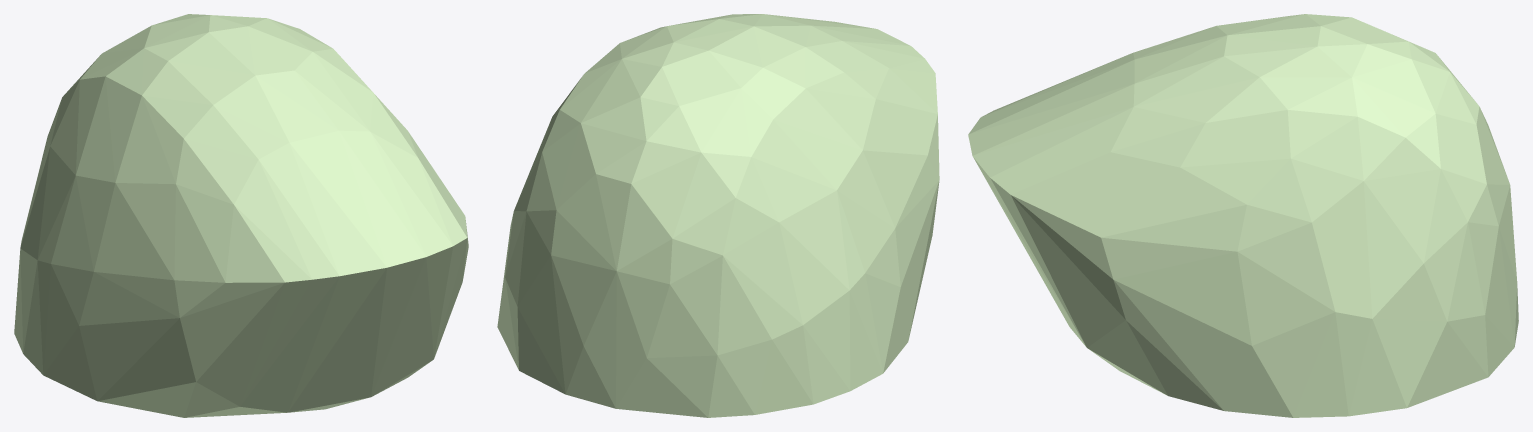
Rendered from kuka_URDF_link3_resp_coll_1.dae.
3 renders of one model, left to right at view 1: azimuth 30°, elevation 25°; view 2: azimuth 150°, elevation 25°; view 3: azimuth 270°, elevation 25°, orthographic. The views are drawn at different scales.
Parts seen in each view (by area): view 1: Node_0000020FCC58F410; view 2: Node_0000020FCC58F410; view 3: Node_0000020FCC58F410.
Boxes of the visible parts, left/top/right/bottom form: Node_0000020FCC58F410: left=14, top=14, right=468, bottom=417; Node_0000020FCC58F410: left=497, top=14, right=939, bottom=417; Node_0000020FCC58F410: left=968, top=14, right=1518, bottom=417.
Bounding box in the file's own units: 0.1715 × 0.1321 × 0.2222.
